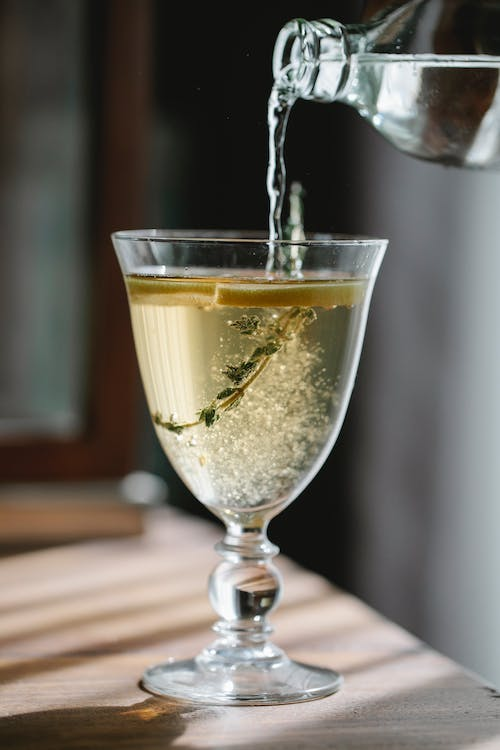alcohol: (107, 224, 393, 708), (269, 0, 500, 171)
